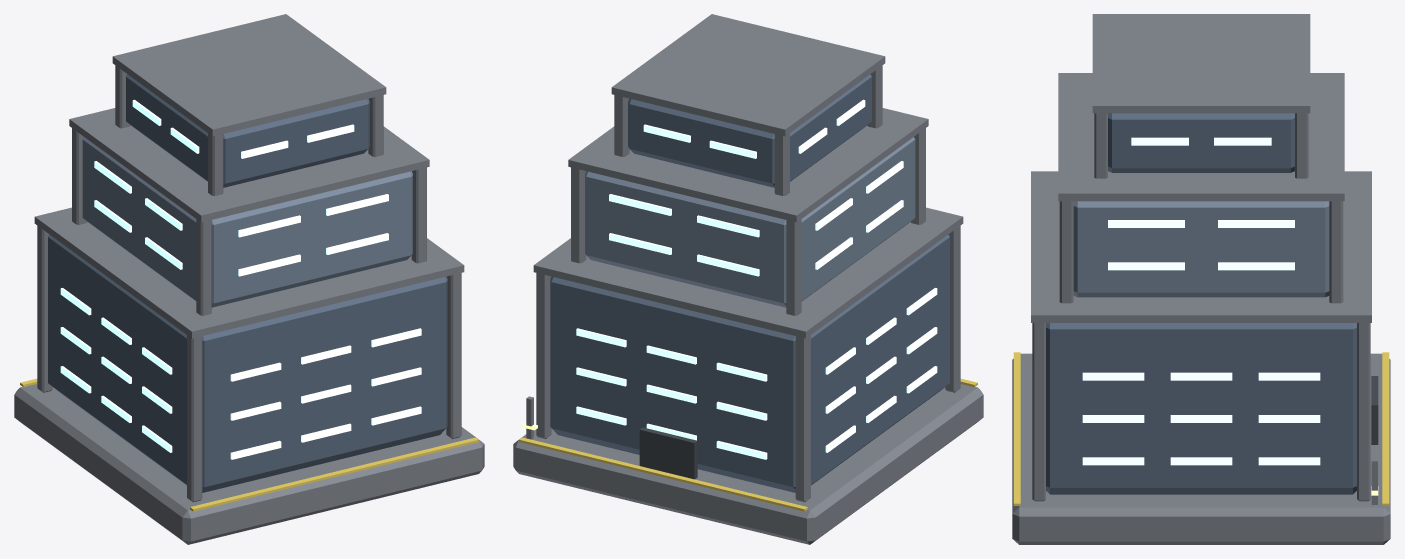
The model's file is zone_high_4_t1.glb.
The picture shows the model from 3 angles, left to right: view 1: azimuth 30°, elevation 25°; view 2: azimuth 150°, elevation 25°; view 3: azimuth 270°, elevation 25°; orthographic projection. The views are drawn at different scales.
Visible parts, largest first — view 1: zone_high_4_t1, detail; view 2: zone_high_4_t1, detail; view 3: zone_high_4_t1, detail.
Boxes of the visible parts, bbox=[...] form: zone_high_4_t1: bbox=[14, 14, 484, 544]; detail: bbox=[20, 378, 478, 511]; zone_high_4_t1: bbox=[513, 14, 983, 544]; detail: bbox=[519, 378, 977, 511]; zone_high_4_t1: bbox=[1012, 14, 1390, 544]; detail: bbox=[1013, 352, 1389, 505].
Size of the model in its own units: 27.5 by 32.72 by 27.5.
